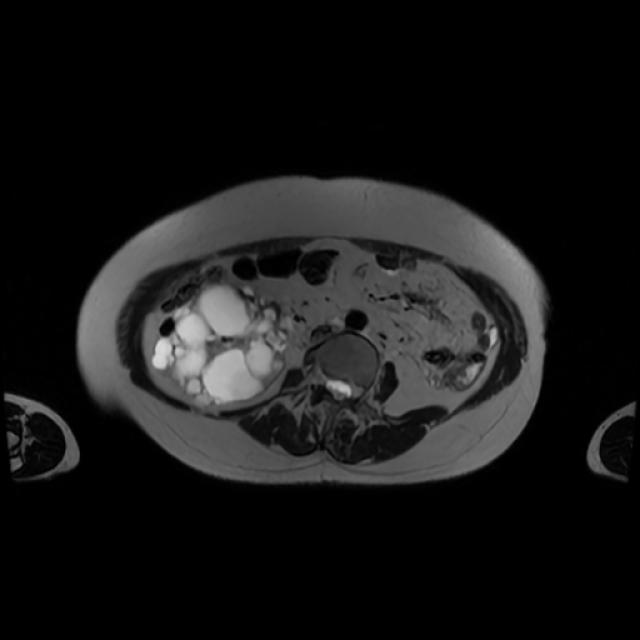sag: (150, 279, 293, 408)
